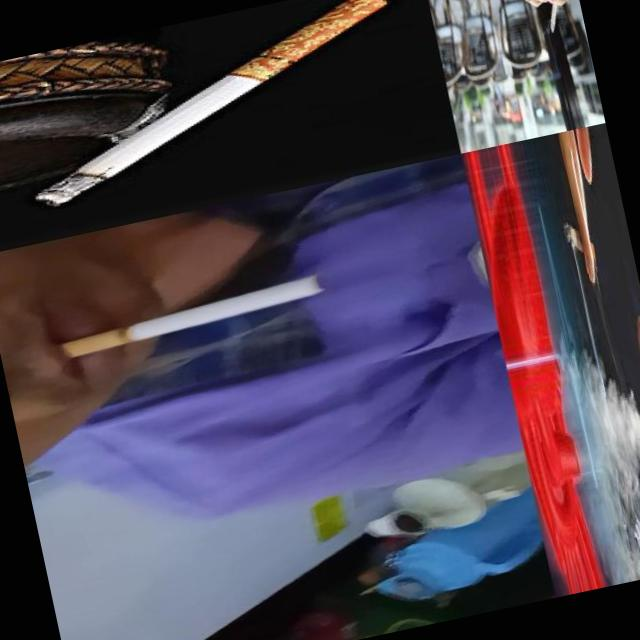smoke: (2, 0, 418, 214), (55, 272, 330, 360), (562, 216, 598, 270), (539, 0, 570, 33)
